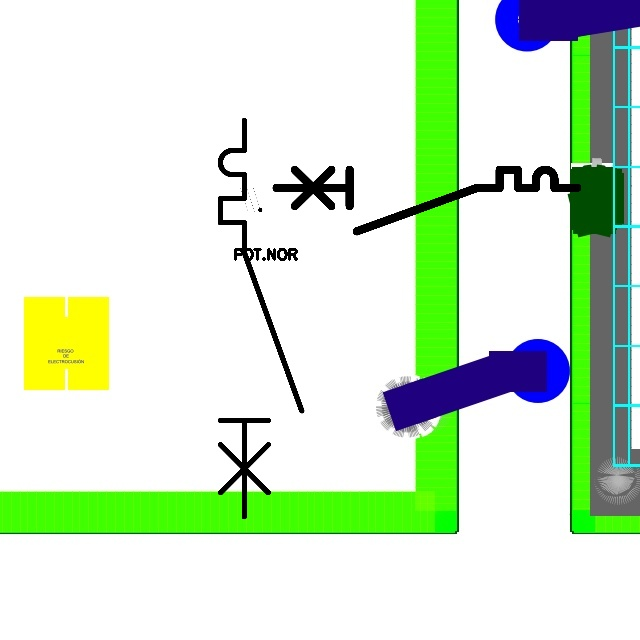interruptor_termomagnetico: (210, 110, 312, 527), (268, 162, 585, 239)
